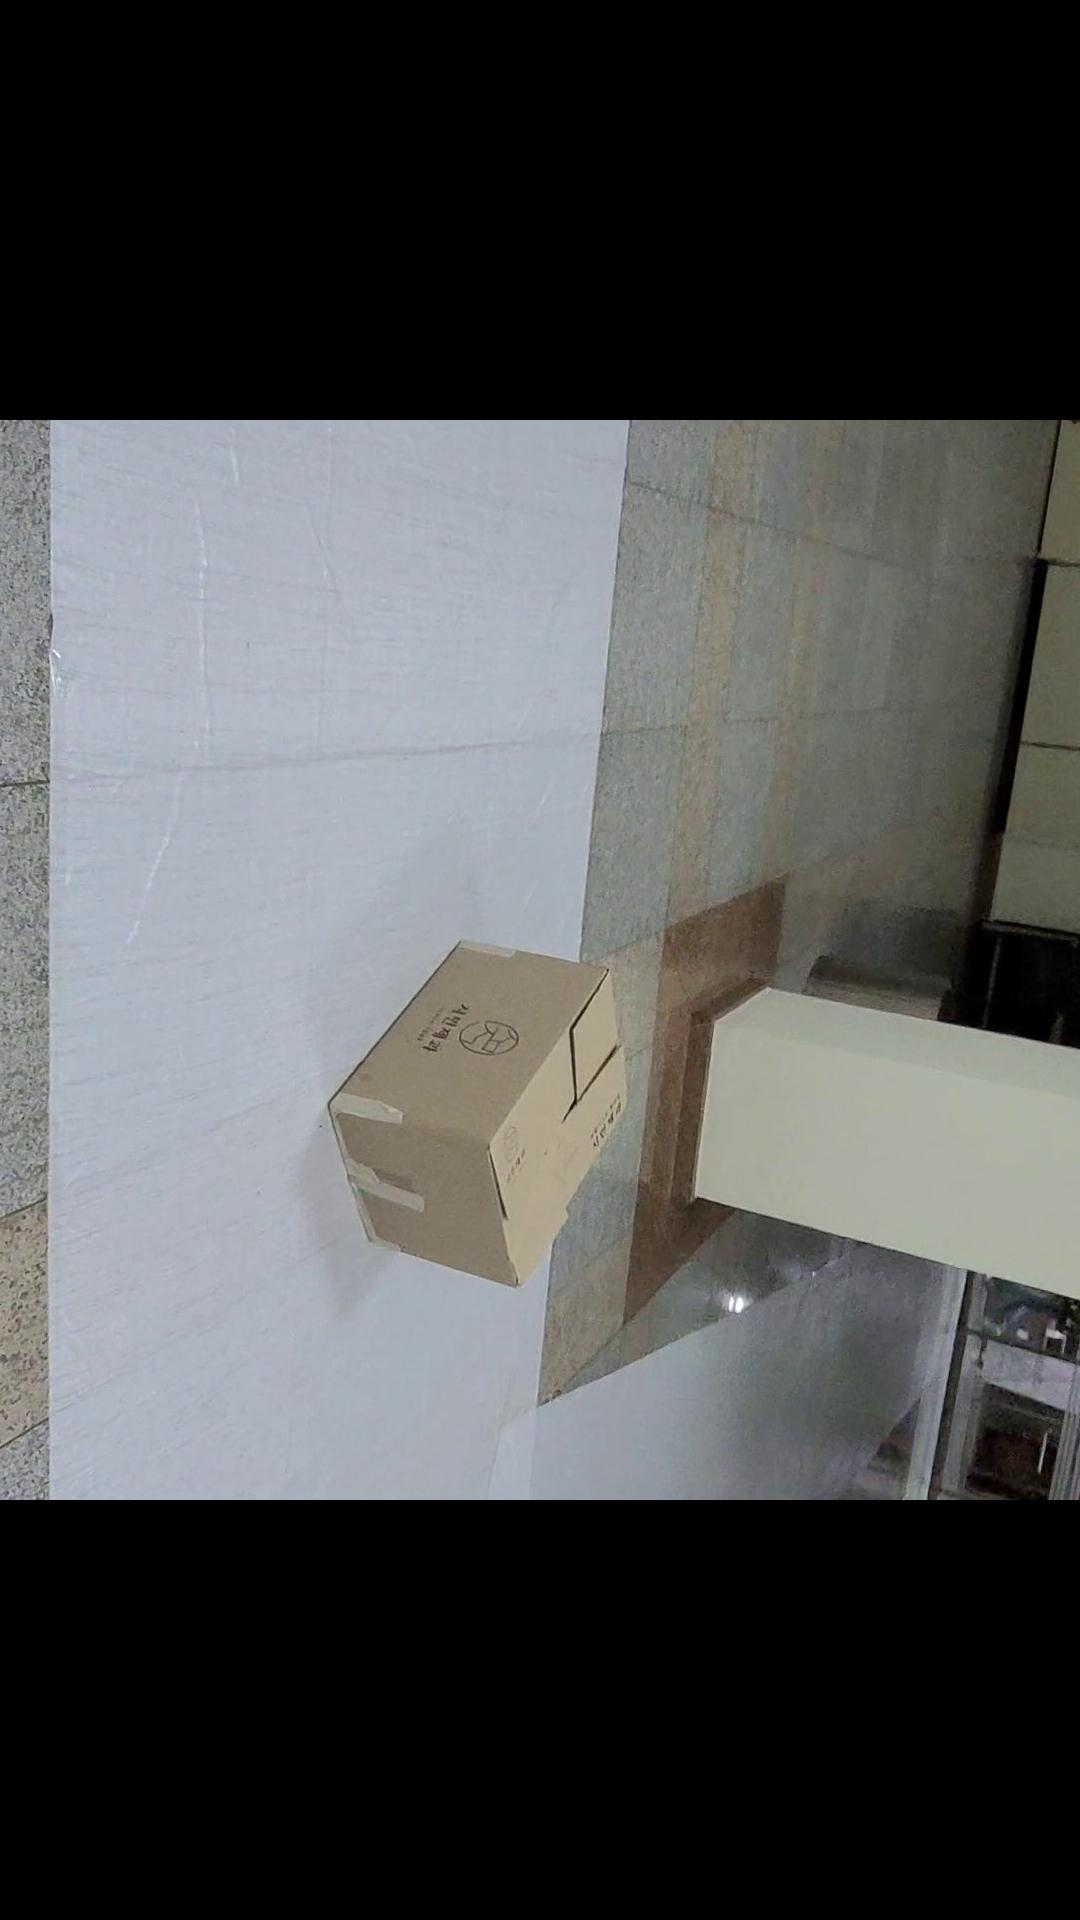Box: (309, 942, 670, 1300)
